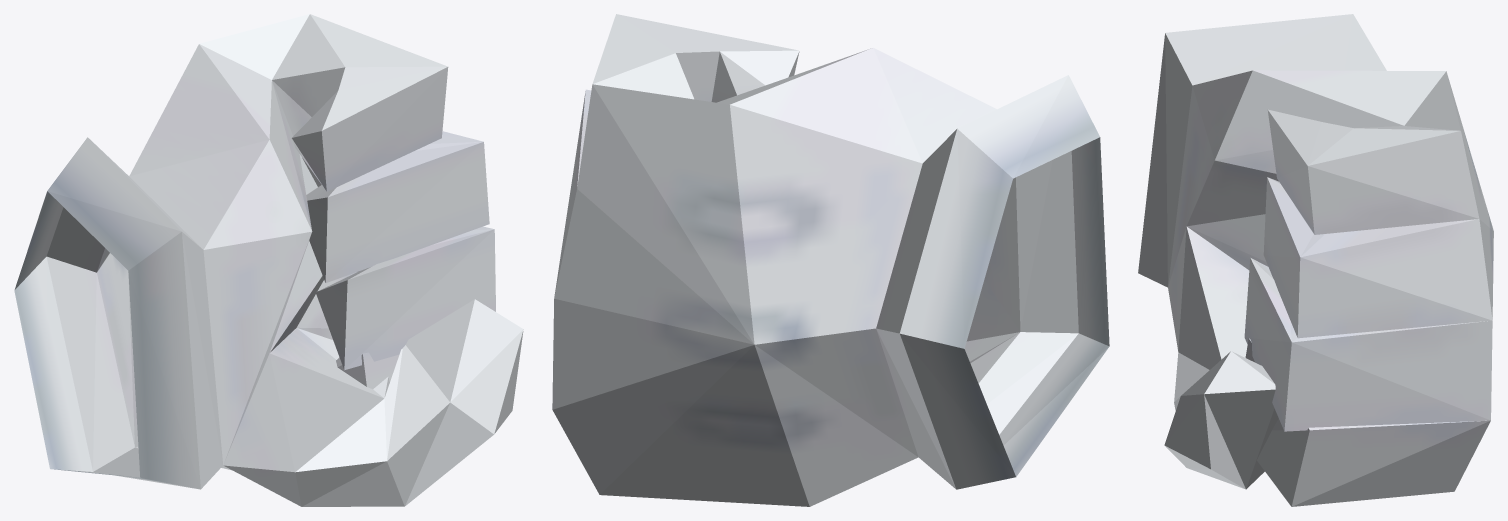
File: ma_hnd3r.dae
3 renders of one model, left to right at view 1: azimuth 30°, elevation 25°; view 2: azimuth 150°, elevation 25°; view 3: azimuth 270°, elevation 25°, orthographic. The views are drawn at different scales.
Visible parts, largest first — view 1: m0; view 2: m0; view 3: m0.
Boxes of the visible parts, left/top/right/bottom form: m0: left=14, top=14, right=523, bottom=506; m0: left=552, top=14, right=1109, bottom=506; m0: left=1138, top=14, right=1493, bottom=506.
Size of the model in its own units: 26.35 by 23.39 by 20.16.
